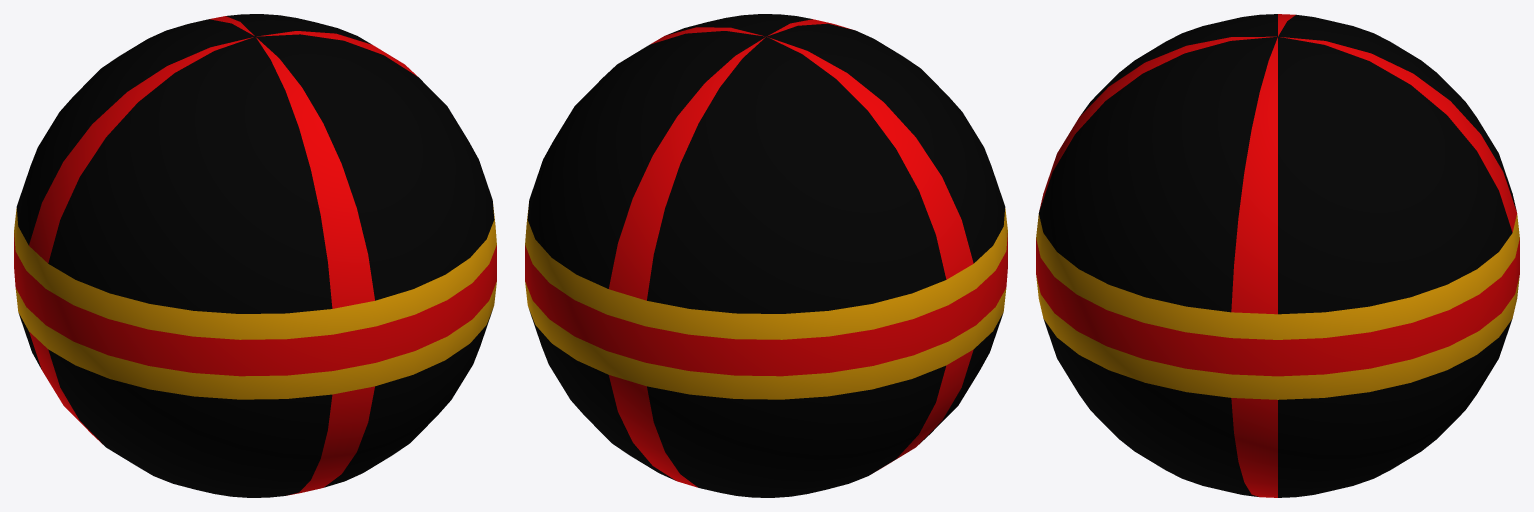
3 renders of one model, left to right at view 1: azimuth 30°, elevation 25°; view 2: azimuth 150°, elevation 25°; view 3: azimuth 270°, elevation 25°, orthographic.
Parts seen in each view (by area): view 1: Sphere.003; view 2: Sphere.003; view 3: Sphere.003.
Part boxes in pixels (x1,y1,x2,y2): Sphere.003: [14, 14, 496, 497]; Sphere.003: [525, 14, 1007, 497]; Sphere.003: [1036, 14, 1519, 497].
Bounding box in the file's own units: 1 × 1 × 1.
